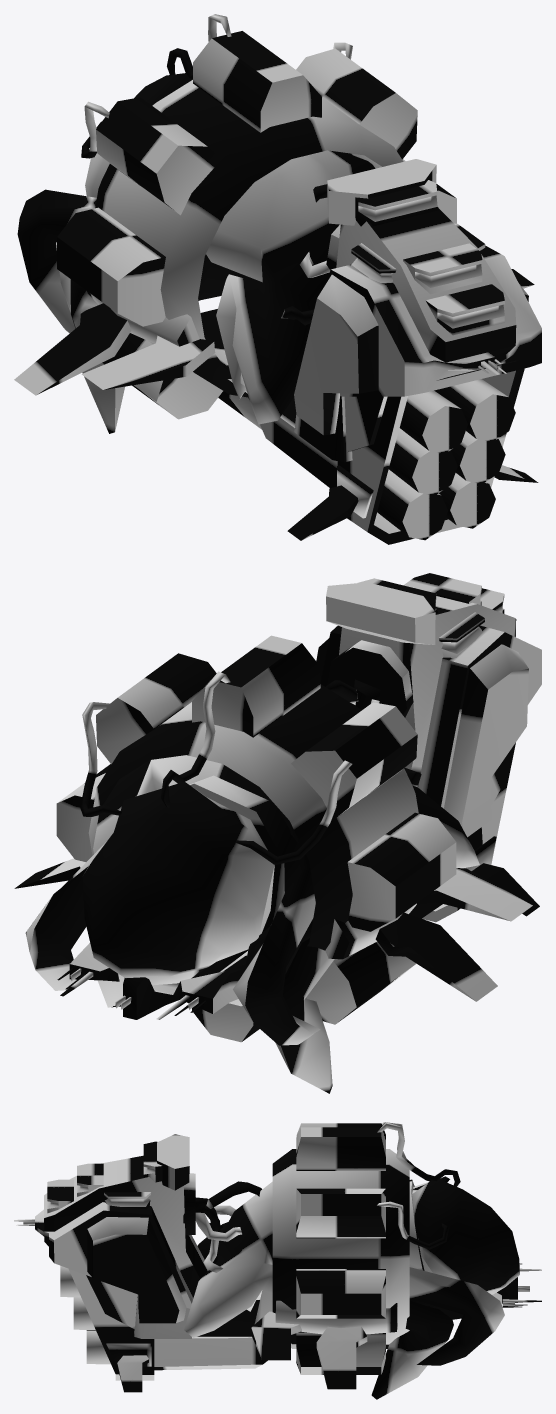
File: sibelon_boss.obj
The picture shows the model from 3 angles, top to bottom: view 1: azimuth 30°, elevation 25°; view 2: azimuth 150°, elevation 25°; view 3: azimuth 270°, elevation 25°; orthographic projection. The views are drawn at different scales.
Parts seen in each view (by area): view 1: sibelon-boss, sibelon-boss-creature; view 2: sibelon-boss, sibelon-boss-creature; view 3: sibelon-boss, sibelon-boss-creature.
Boxes of the visible parts, x1,y1,x2,y2 form: sibelon-boss: (14, 14, 541, 544); sibelon-boss-creature: (17, 73, 375, 433); sibelon-boss: (14, 573, 541, 1042); sibelon-boss-creature: (25, 755, 479, 1093); sibelon-boss: (14, 1122, 541, 1392); sibelon-boss-creature: (184, 1179, 519, 1399).
Bounding box in the file's own units: 133 × 107 × 198.
2 materials, 2 textured.
